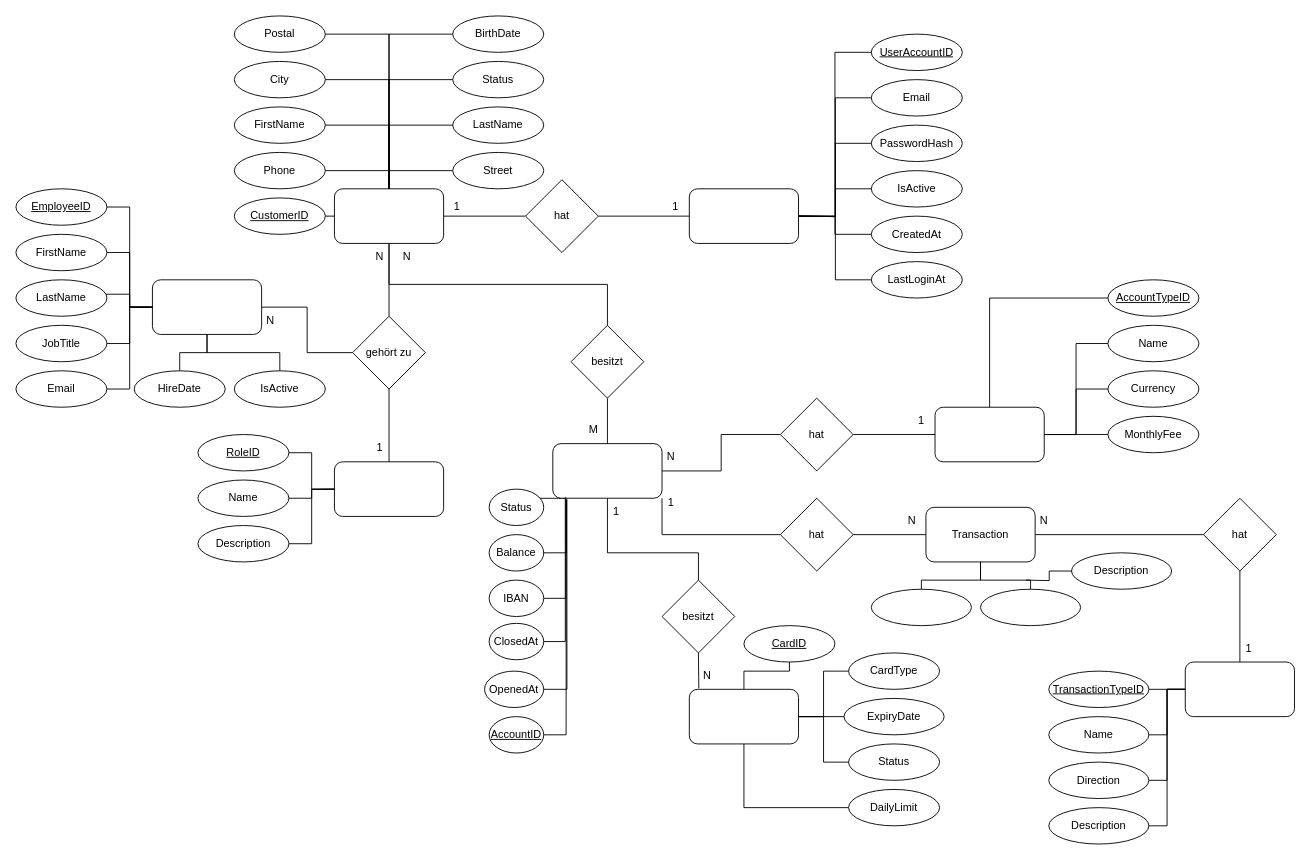
Some shapes in this 1310 by 860 pixel diagram are drawn without their labels. The centre of each missing label's shape, as x and y in pixels:
"Account" goes at point 607,470.
"AccountType" goes at point 989,434.
"BookingDate" goes at point 920,607.
"Card" goes at point 743,716.
"Customer" goes at point 389,215.
"Employee" goes at point 207,306.
"Role" goes at point 389,488.
"TransactionID" goes at point 1030,607.
"TransactionType" goes at point 1239,689.
"UserAccount" goes at point 743,215.
